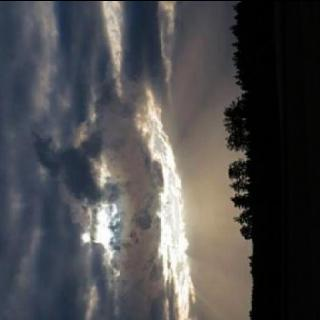Cirrocumulus: (1, 0, 244, 320)
